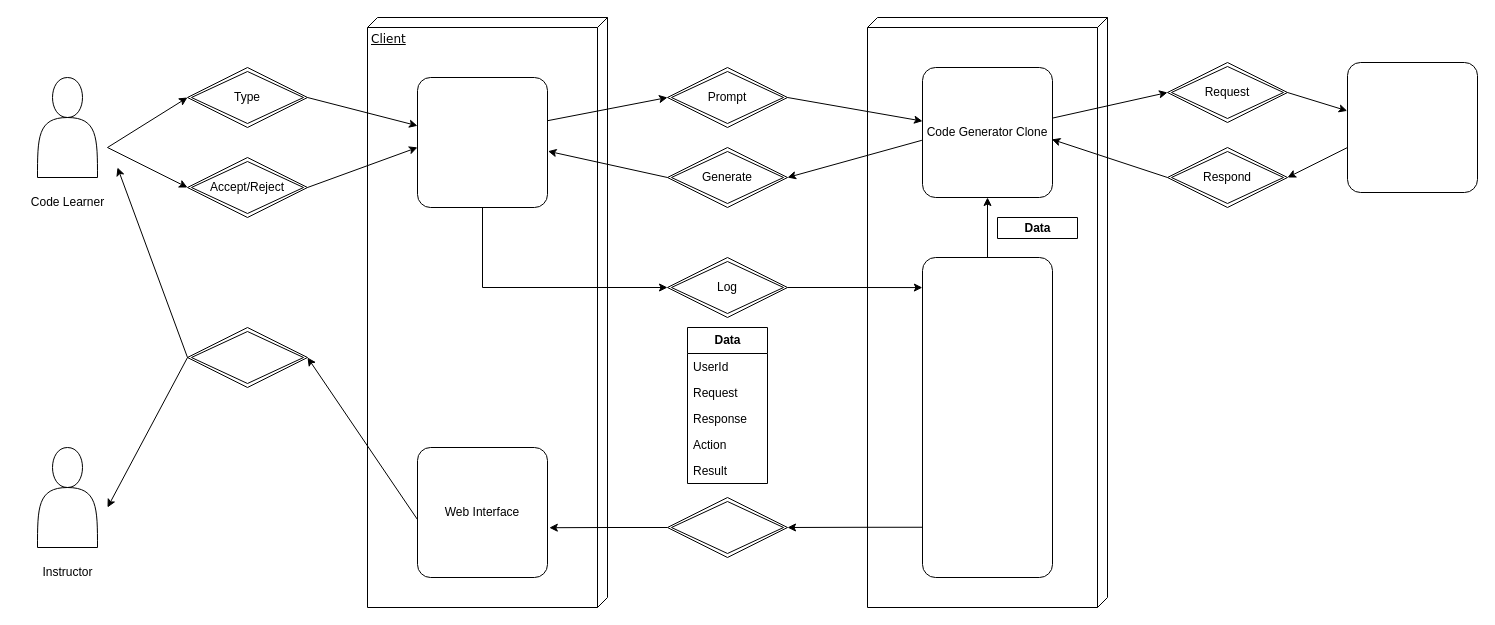
Image size: 1495x625. Some labels were removed from this diagram. The box of each missing label's shape, as (x1, y1, x2, y2) in pixels:
AI Model: (1346, 62, 1478, 192)
Database: (922, 256, 1052, 578)
IDE: (416, 76, 548, 208)
Retrieve: (666, 496, 788, 558)
Server: (866, 16, 1108, 608)
View/Assess: (186, 326, 308, 388)
